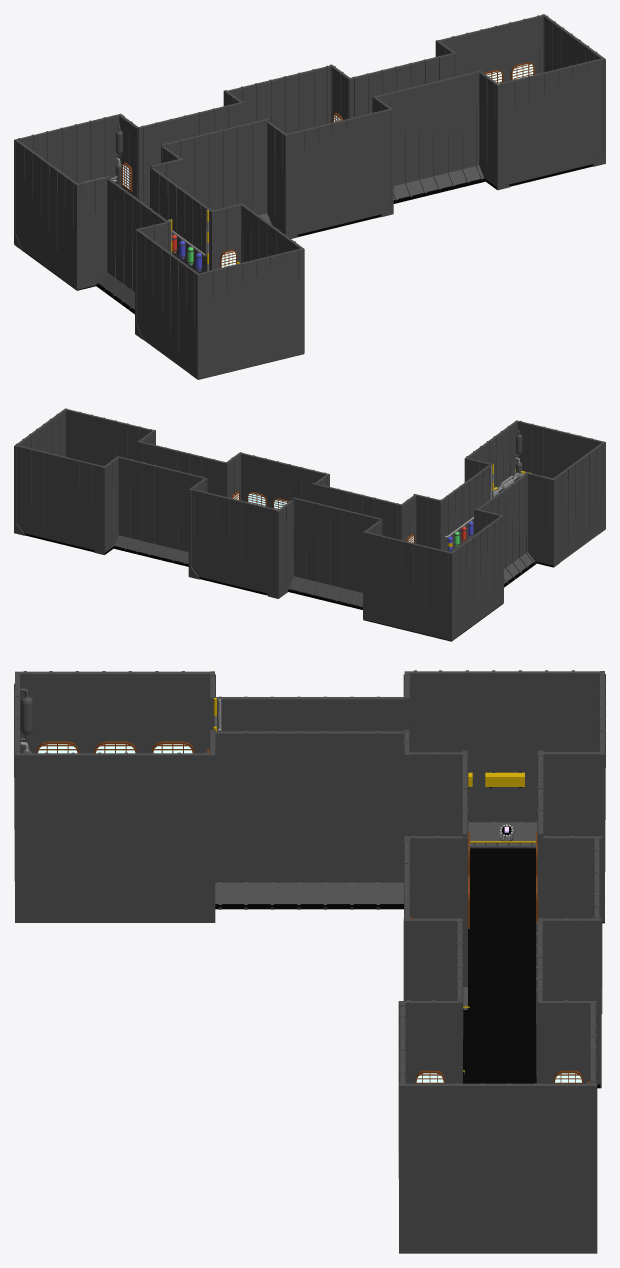
Rendered from Room4 (3).fbx.
3 renders of one model, top to bottom at view 1: azimuth 30°, elevation 25°; view 2: azimuth 150°, elevation 25°; view 3: azimuth 270°, elevation 25°, orthographic. The views are drawn at different scales.
Visible parts, largest first — view 1: Room4; view 2: Room4; view 3: Room4.
Boxes of the visible parts, <box> form: Room4: <box>14,14,605,379</box>; Room4: <box>14,408,605,641</box>; Room4: <box>14,670,605,1253</box>.
Bounding box in the file's own units: 59116 × 11569 × 35736.
